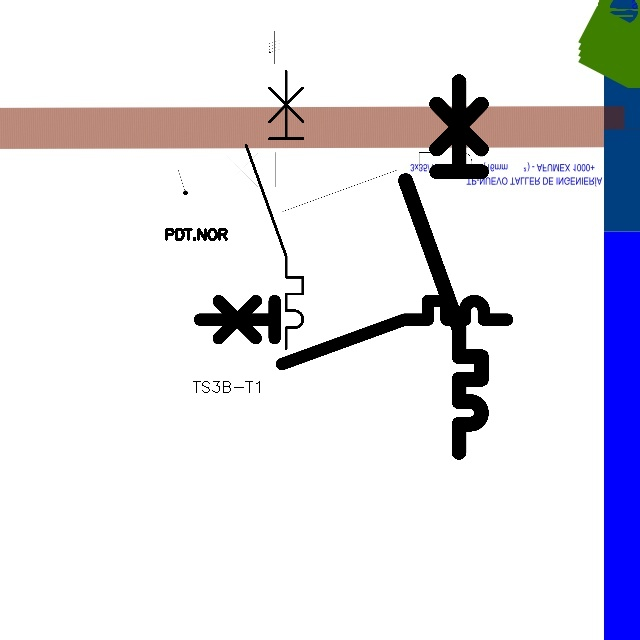interruptor_termomagnetico: (396, 72, 491, 462), (192, 293, 515, 372), (198, 145, 500, 219), (239, 64, 310, 356)
